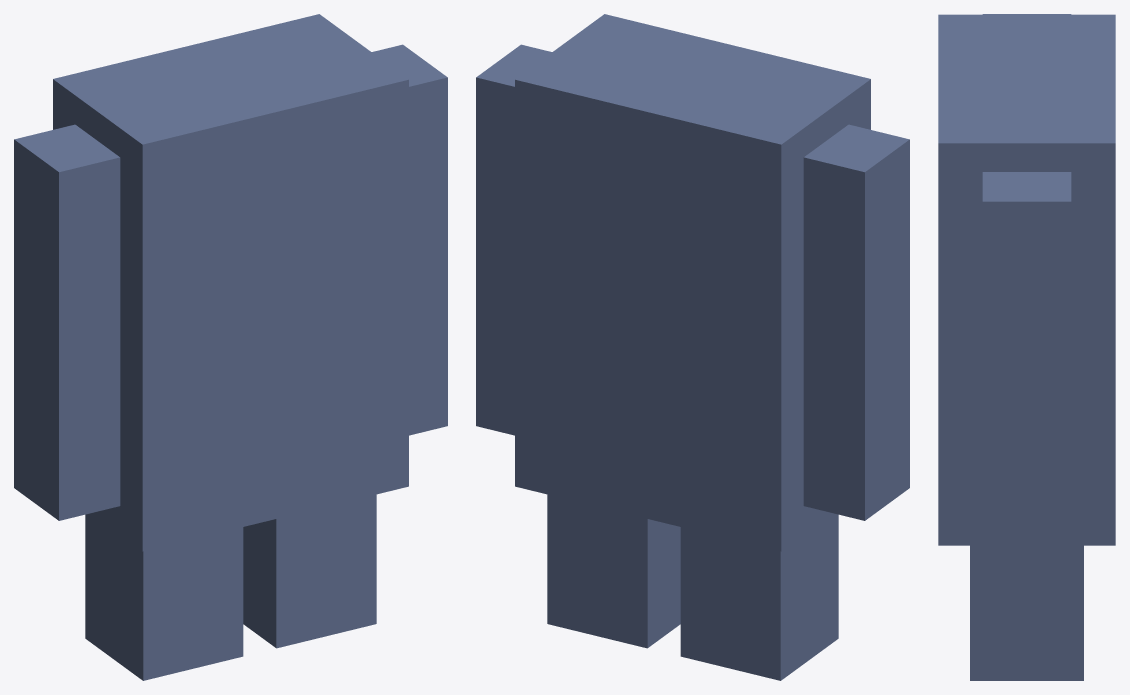
File: police_uniform.glb
3 views of the same model, side by side, from view 1: azimuth 30°, elevation 25°; view 2: azimuth 150°, elevation 25°; view 3: azimuth 270°, elevation 25° (orthographic).
Visible parts, largest first — view 1: garment, sleeve_l, leg_l, leg_r, sleeve_r; view 2: garment, sleeve_l, leg_l, leg_r, sleeve_r; view 3: garment, sleeve_r, leg_r.
Boxes of the visible parts, x1,y1,x2,y2 form: garment: [53, 14, 408, 551]; sleeve_l: [14, 124, 120, 520]; leg_l: [85, 513, 243, 680]; leg_r: [243, 494, 376, 648]; sleeve_r: [372, 44, 447, 435]; garment: [515, 14, 870, 551]; sleeve_l: [803, 124, 909, 520]; leg_l: [680, 513, 838, 680]; leg_r: [547, 494, 680, 648]; sleeve_r: [476, 44, 551, 435]; garment: [938, 14, 1115, 545]; sleeve_r: [982, 172, 1071, 546]; leg_r: [970, 545, 1083, 680].
Size of the model in its own units: 0.7001 by 0.95 by 0.2798.
